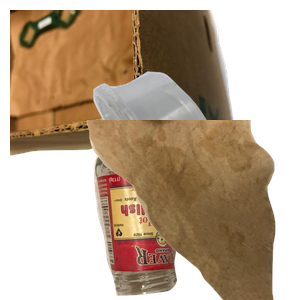cardboard: (10, 10, 237, 158)
glass: (91, 142, 260, 300)
plastic: (91, 69, 300, 249)
trash: (84, 120, 300, 300)
